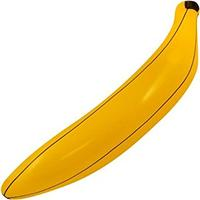banane: (1, 2, 197, 200)
